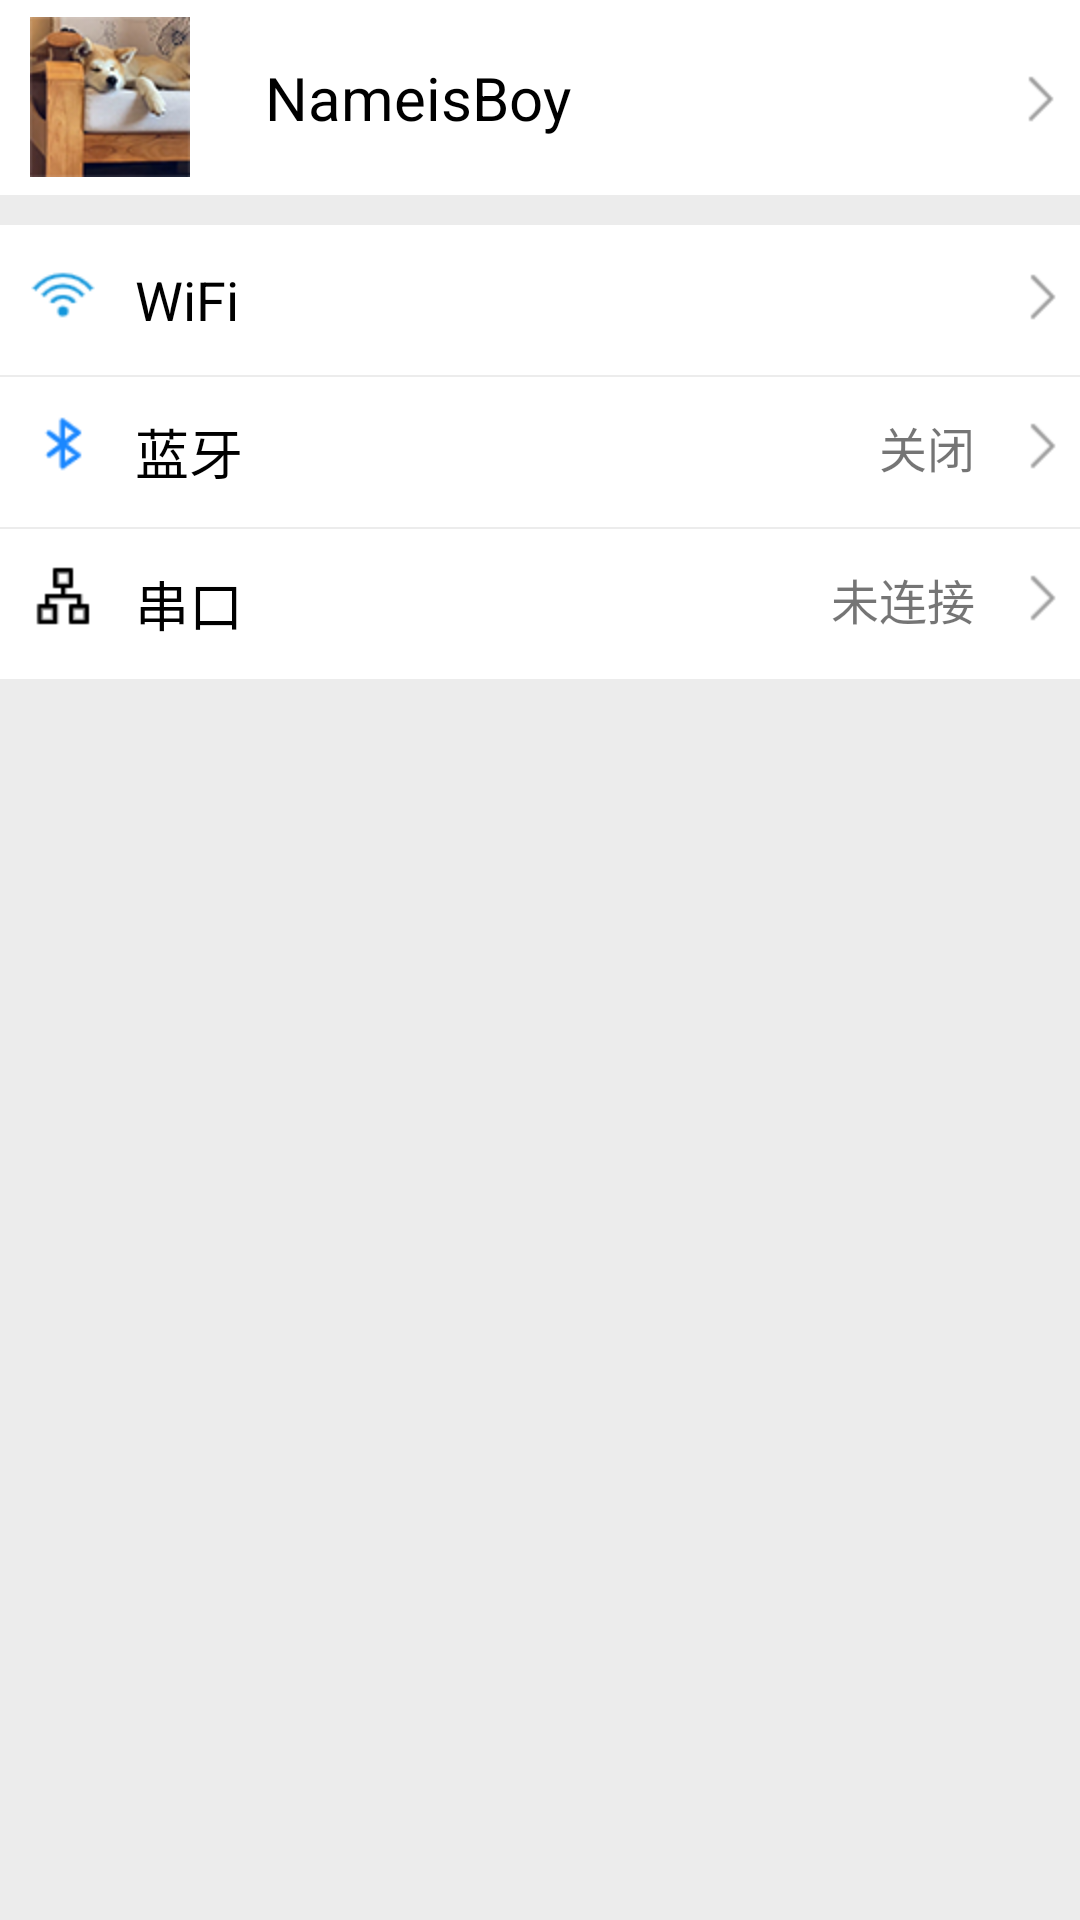

Point at icon controls on the screen. Image size 1080 × 1920, points as (x,y).
enter: (1043,297), (1043,446), (1043,598)
